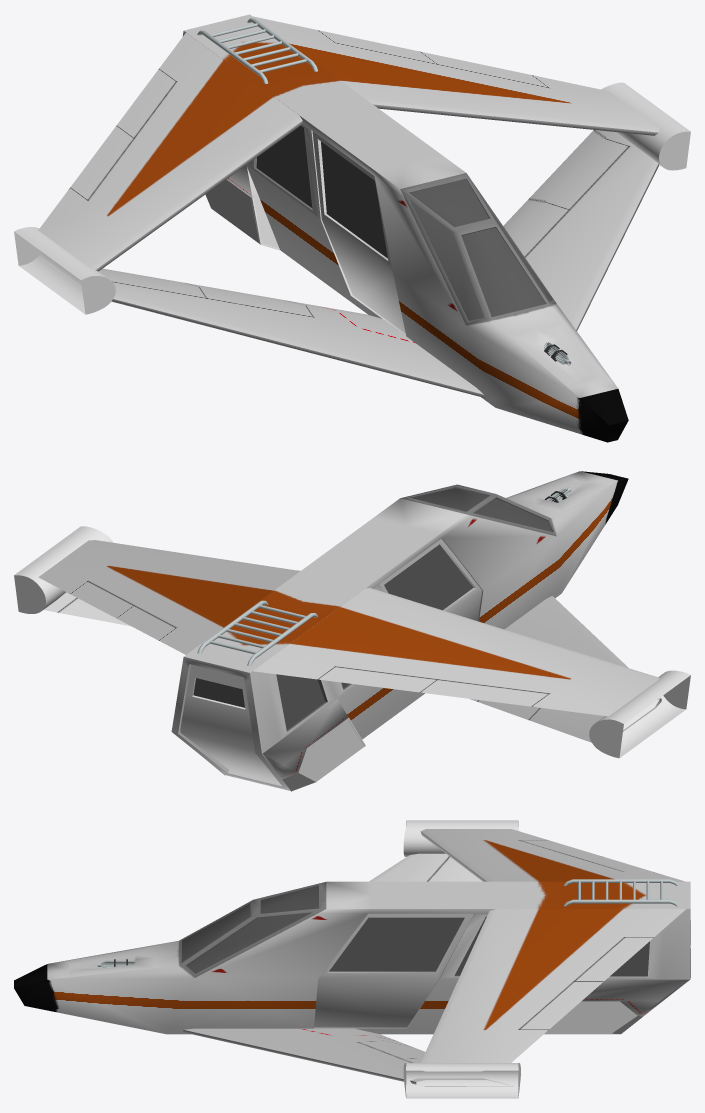
The model's file is Flight.fbx.
The picture shows the model from 3 angles, top to bottom: view 1: azimuth 30°, elevation 25°; view 2: azimuth 150°, elevation 25°; view 3: azimuth 270°, elevation 25°; orthographic projection. The views are drawn at different scales.
Parts seen in each view (by area): view 1: Gun main.003; view 2: Gun main.003; view 3: Gun main.003.
Part boxes in pixels (x1,y1,x2,y2): Gun main.003: [14, 14, 690, 442]; Gun main.003: [14, 471, 690, 791]; Gun main.003: [14, 820, 690, 1098].
Bounding box in the file's own units: 2159 × 527 × 2468.
